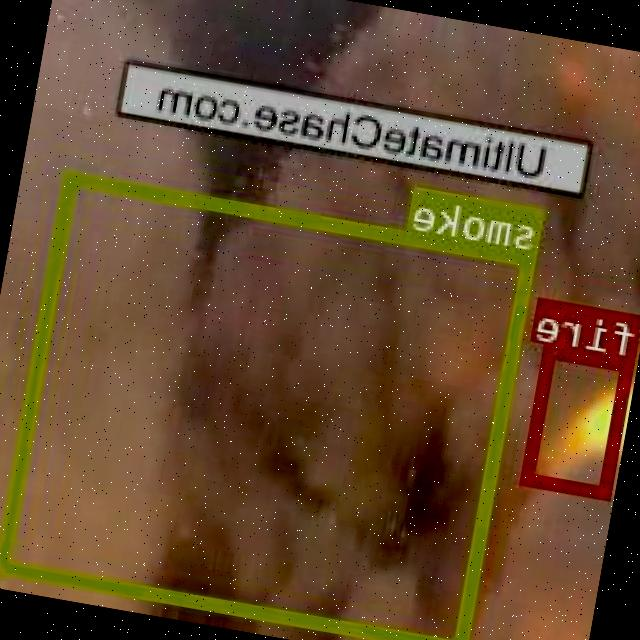fire: (523, 342, 637, 498)
smoke: (0, 171, 537, 640)
